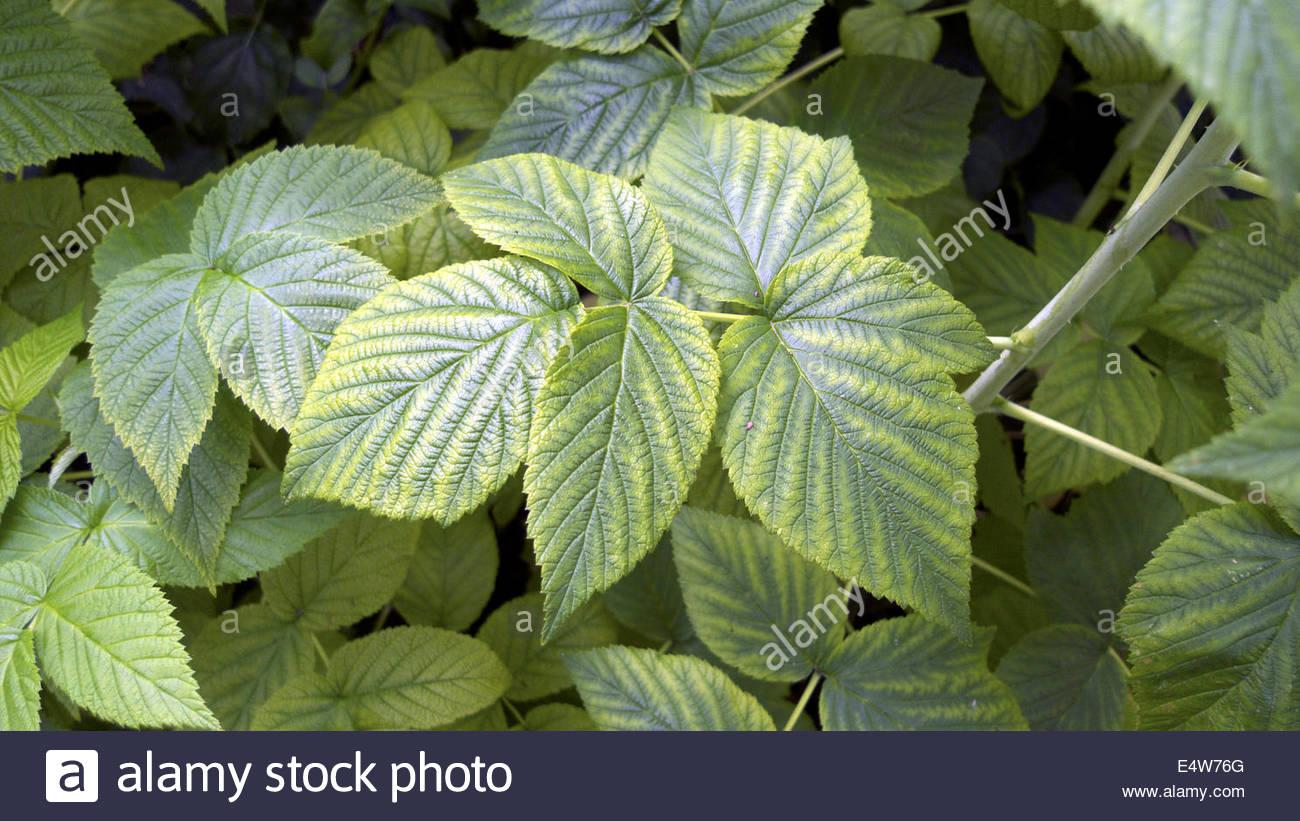Raspberry leaf: (718, 303, 994, 653), (271, 249, 599, 536), (513, 295, 715, 634), (629, 99, 879, 311), (202, 231, 444, 445), (86, 253, 219, 505), (433, 166, 669, 305), (777, 253, 1006, 395), (179, 142, 450, 258)
